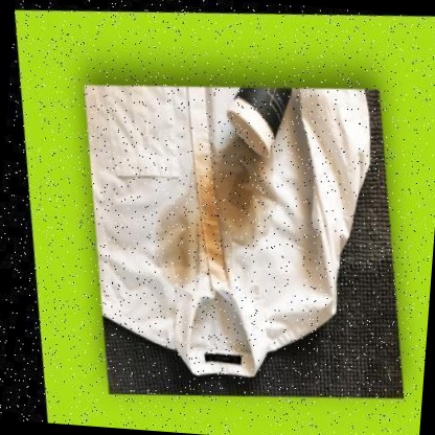coffee: (216, 151, 262, 226), (162, 212, 213, 260)
